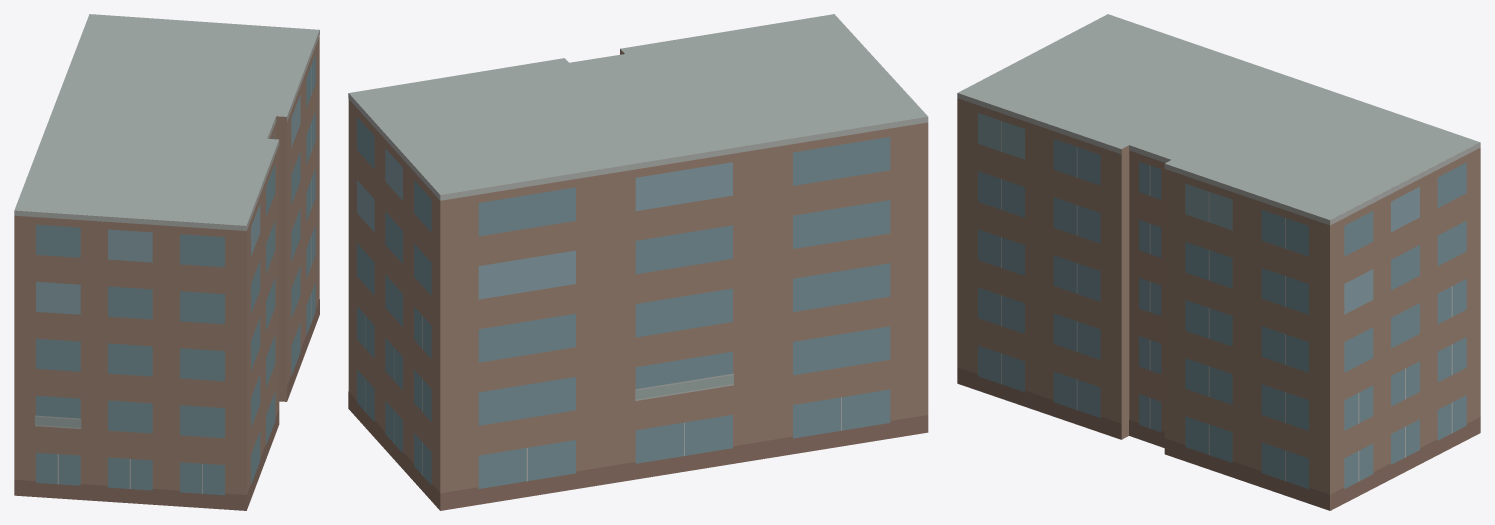
File: survey-upis-32669917.glb
The picture shows the model from 3 angles, left to right: view 1: azimuth 30°, elevation 25°; view 2: azimuth 150°, elevation 25°; view 3: azimuth 270°, elevation 25°; orthographic projection. The views are drawn at different scales.
Parts seen in each view (by area): view 1: survey-upis-32669917.tmp; view 2: survey-upis-32669917.tmp; view 3: survey-upis-32669917.tmp.
Part boxes in pixels (x1,y1,x2,y2): survey-upis-32669917.tmp: (14, 14, 319, 510); survey-upis-32669917.tmp: (348, 14, 928, 510); survey-upis-32669917.tmp: (957, 14, 1480, 510).
Bounding box in the file's own units: 20.7 × 13.6 × 22.19.
